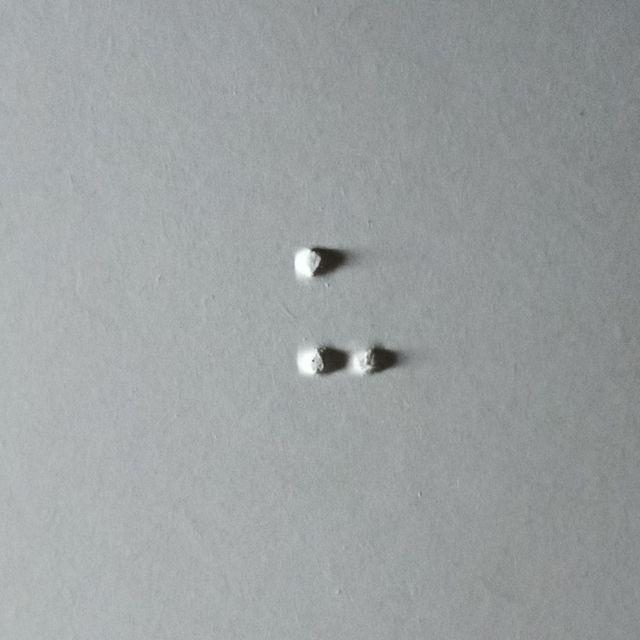upang: (292, 242, 396, 380)
